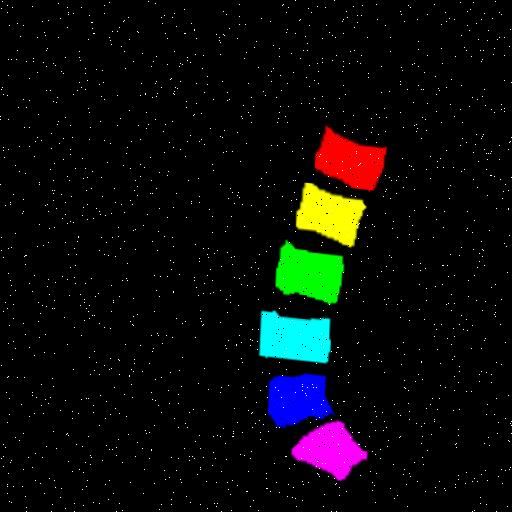L1: (316, 120, 386, 183)
L2: (297, 177, 364, 239)
L3: (277, 236, 344, 296)
L4: (261, 307, 330, 356)
L5: (271, 371, 336, 420)
S1: (294, 415, 370, 472)
